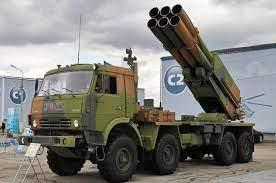rszo: (32, 2, 262, 170)
